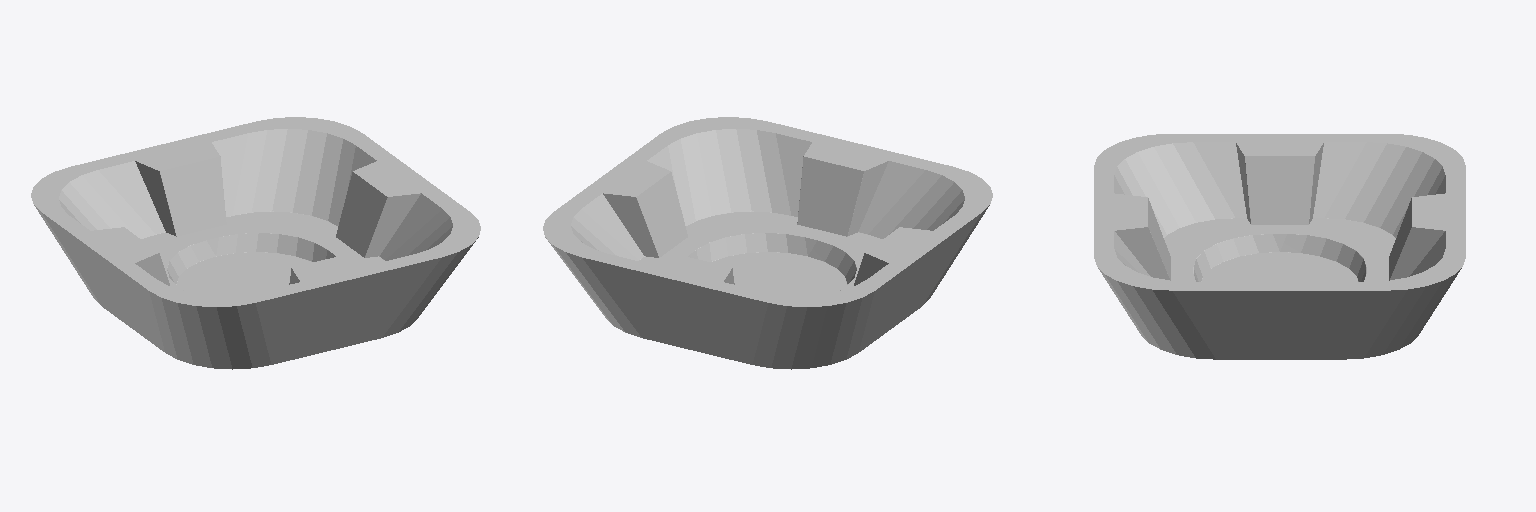
File: bathtub.obj
3 views of the same model, side by side, from view 1: azimuth 30°, elevation 25°; view 2: azimuth 150°, elevation 25°; view 3: azimuth 270°, elevation 25° (orthographic).
Parts seen in each view (by area): view 1: Cube; view 2: Cube; view 3: Cube.
Boxes of the visible parts, box(x1,y1,x2,y2) form: Cube: box(31, 117, 480, 369); Cube: box(543, 117, 992, 369); Cube: box(1094, 134, 1465, 359).
Size of the model in its own units: 384 by 100 by 384.